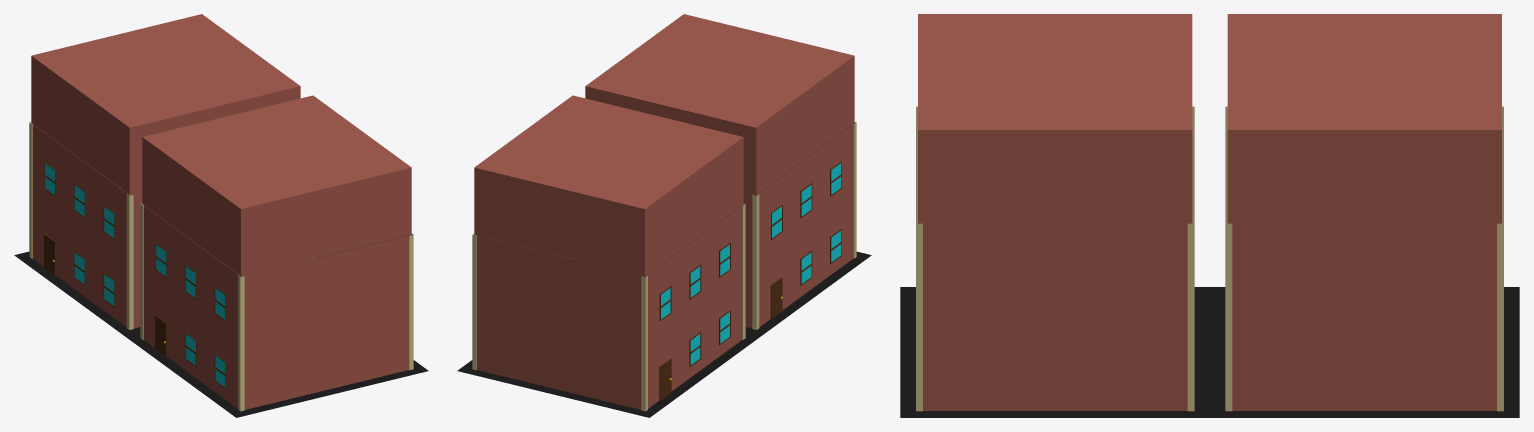
The model's file is Buildings9.fbx.
3 renders of one model, left to right at view 1: azimuth 30°, elevation 25°; view 2: azimuth 150°, elevation 25°; view 3: azimuth 270°, elevation 25°, orthographic. The views are drawn at different scales.
Visible parts, largest first — view 1: Buildings 3.001; view 2: Buildings 3.001; view 3: Buildings 3.001.
Part boxes in pixels (x1,y1,x2,y2): Buildings 3.001: [14, 14, 428, 417]; Buildings 3.001: [457, 14, 871, 417]; Buildings 3.001: [900, 14, 1519, 417].
Size of the model in its own units: 3000 by 1500 by 1500.
